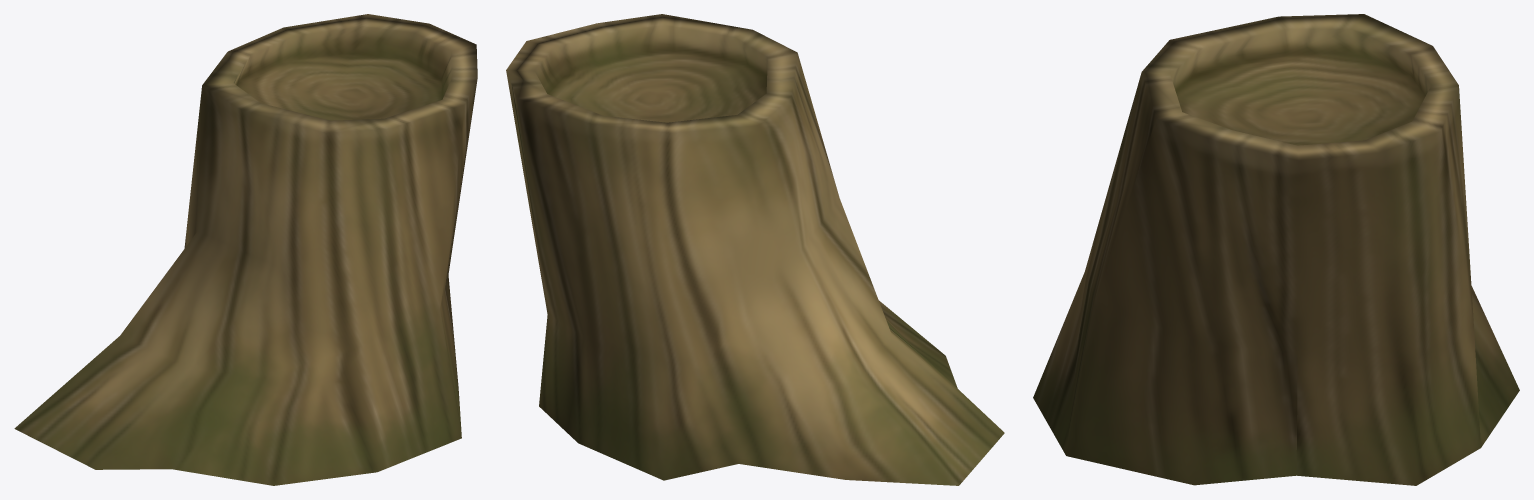
Rendered from 001KirikabuS02.fbx.
The picture shows the model from 3 angles, left to right: view 1: azimuth 30°, elevation 25°; view 2: azimuth 150°, elevation 25°; view 3: azimuth 270°, elevation 25°; orthographic projection. The views are drawn at different scales.
Parts seen in each view (by area): view 1: kirikabuS01; view 2: kirikabuS01; view 3: kirikabuS01.
Part boxes in pixels (left/top/right/bottom): kirikabuS01: left=14, top=14, right=477, bottom=485; kirikabuS01: left=506, top=14, right=1004, bottom=485; kirikabuS01: left=1033, top=14, right=1519, bottom=485.
Bounding box in the file's own units: 114 × 74 × 90.53.
1 material, 1 textured.
